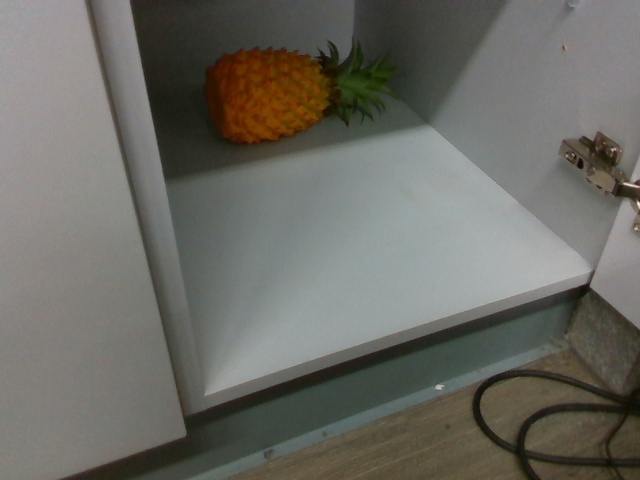pineapple: (204, 37, 395, 140)
